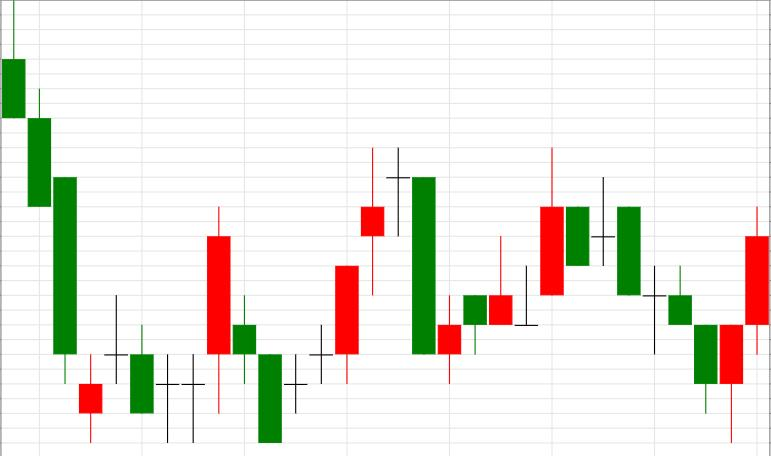bullish_engulfing_rise: (591, 176, 743, 443)
evening_star_fall: (284, 148, 436, 413)
